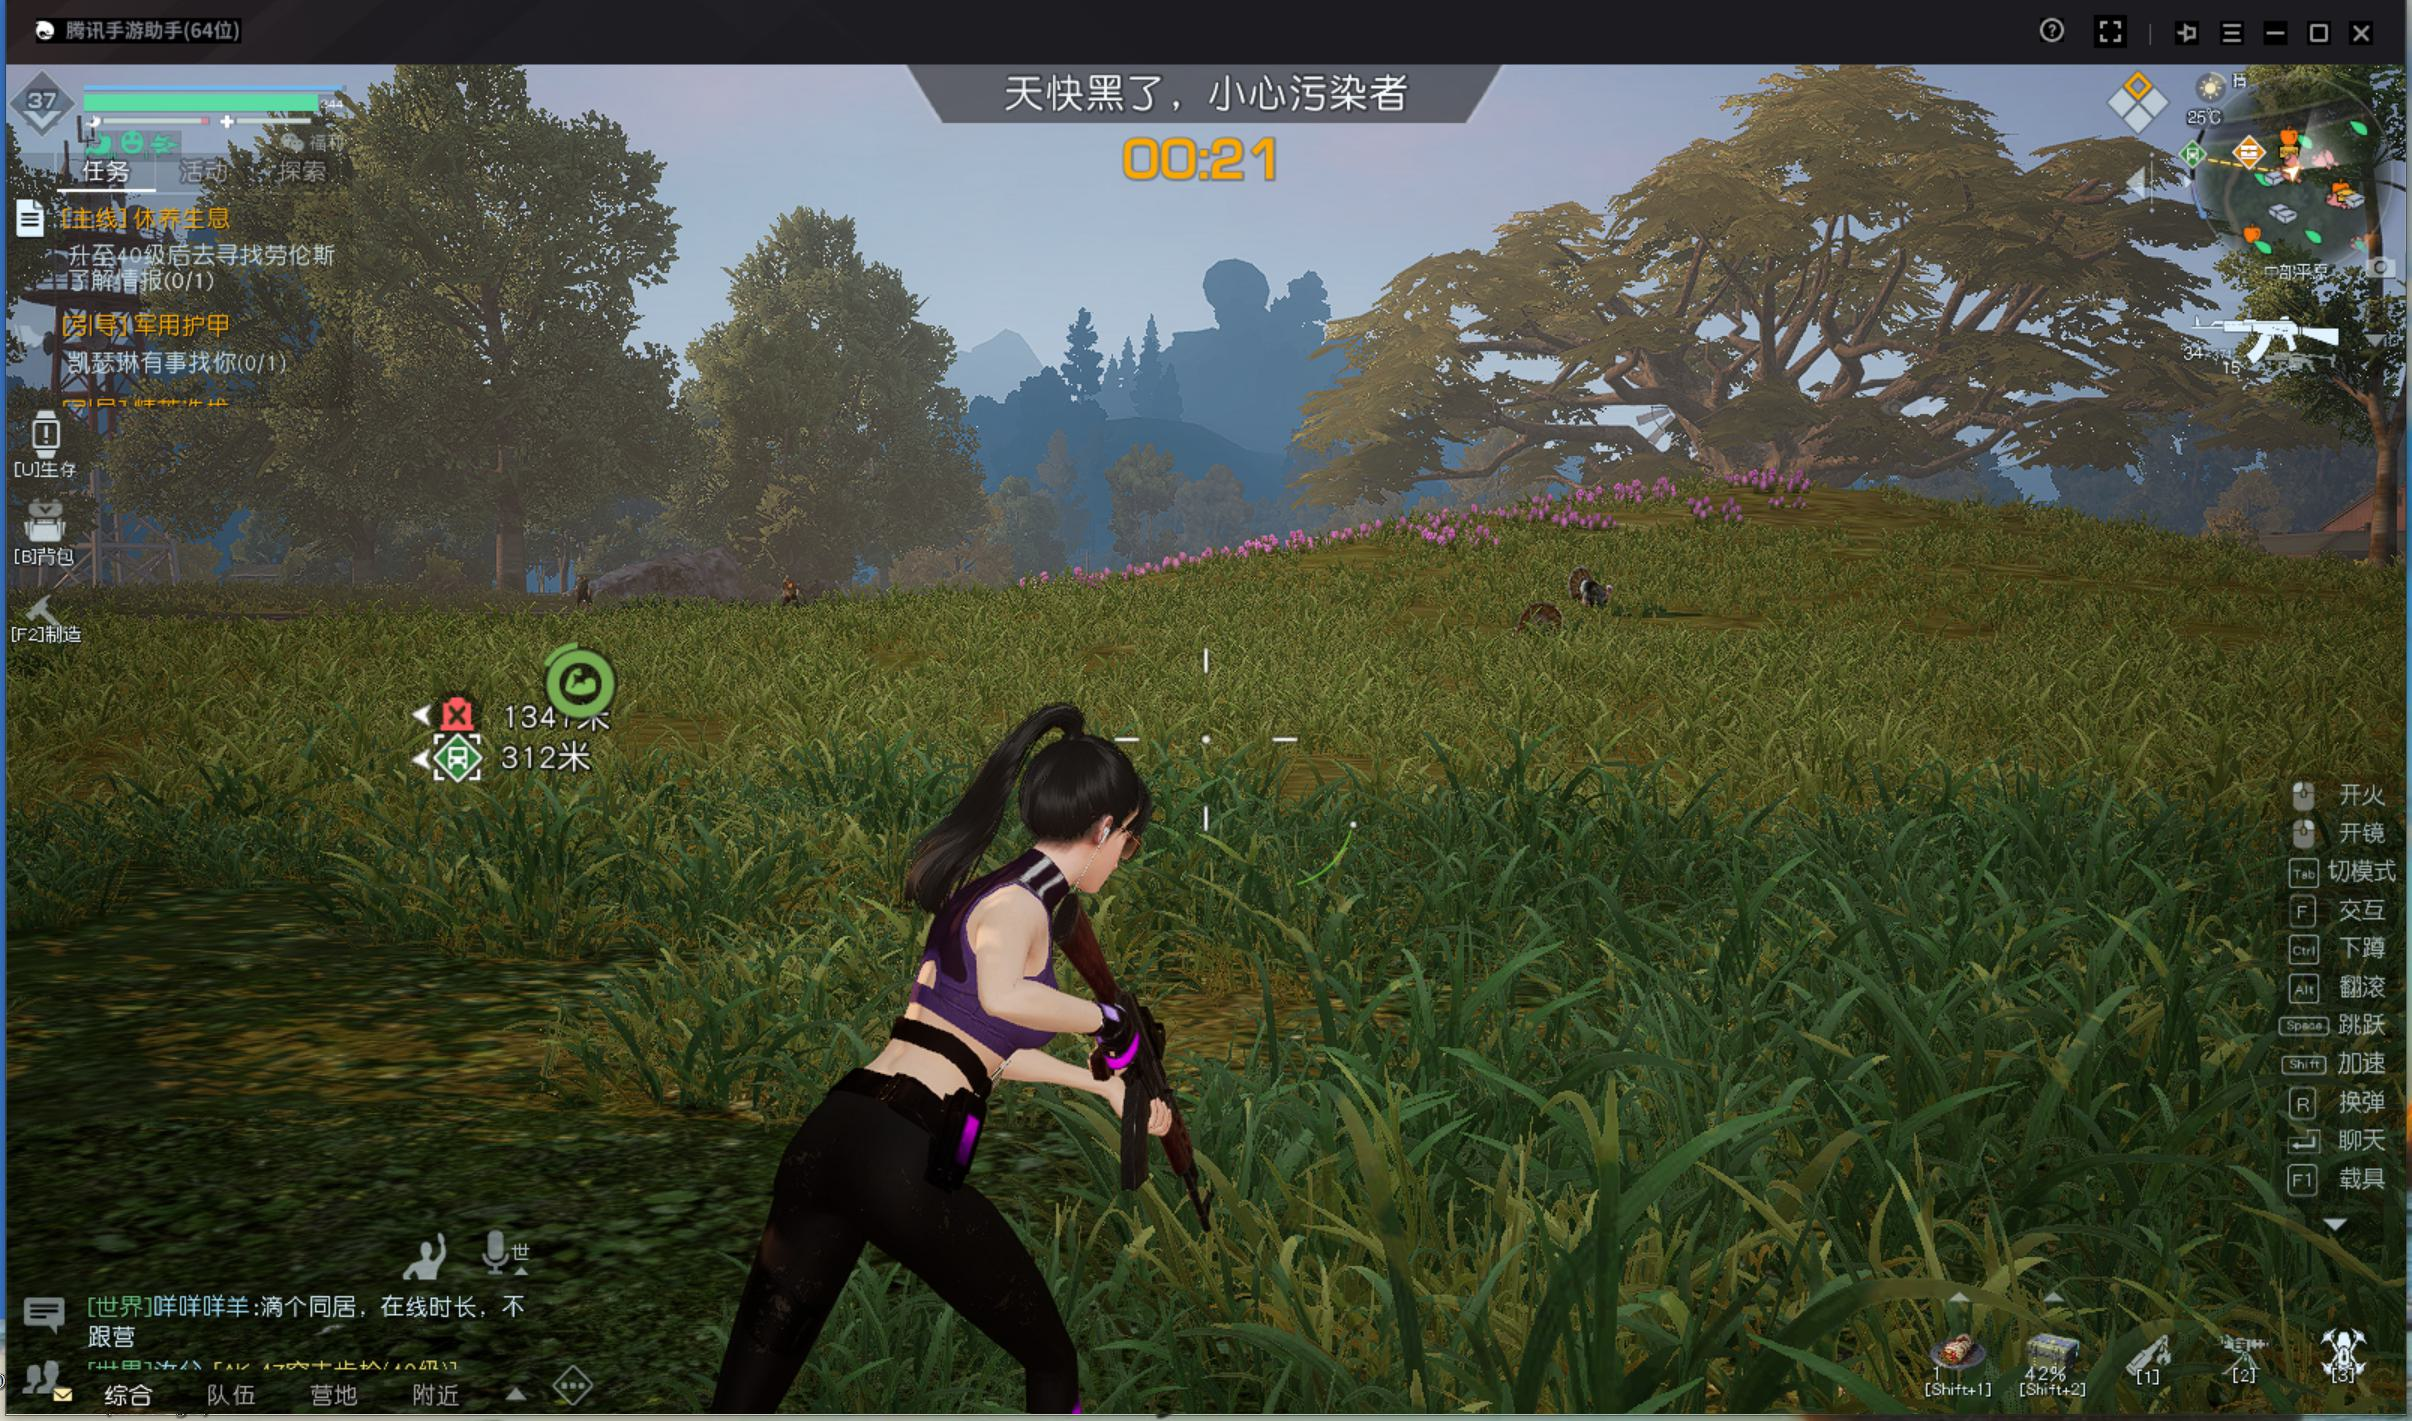tree: (489, 507, 540, 607)
